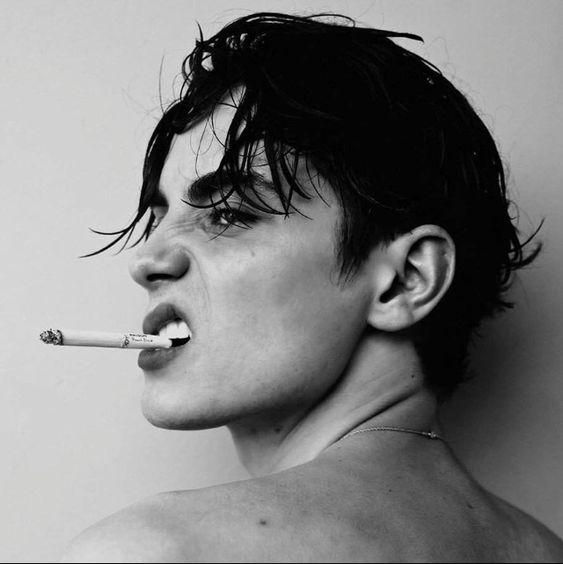cigarette: (39, 328, 173, 349)
